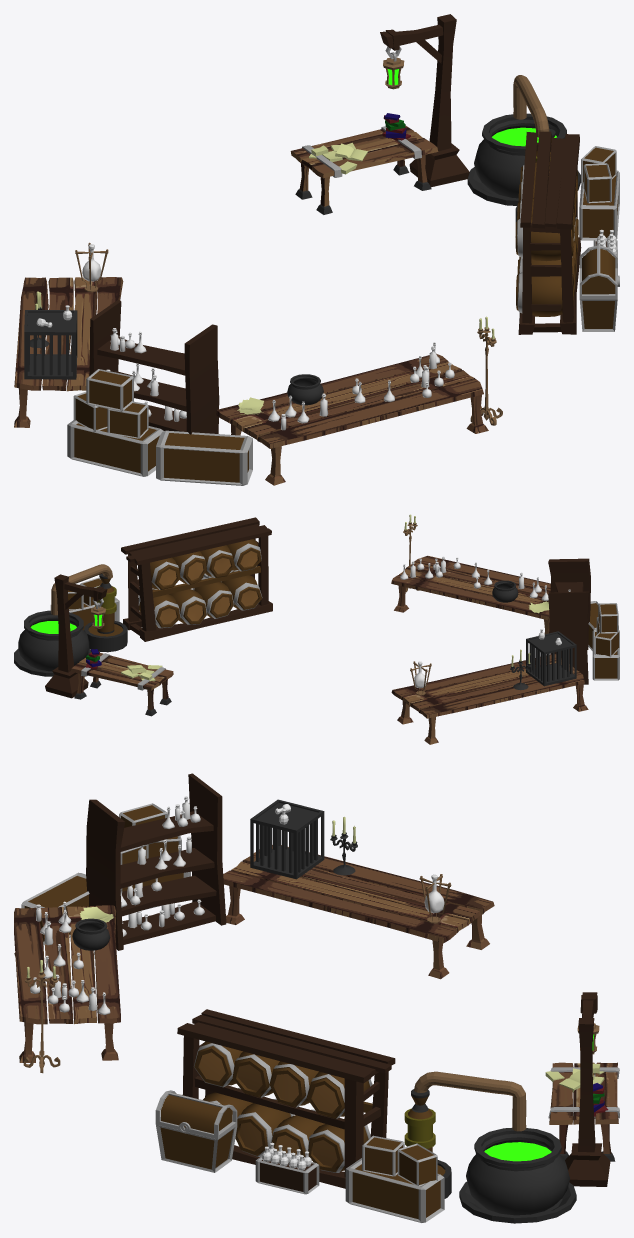
File: LabBObsD.fbx
3 views of the same model, one above another, from view 1: azimuth 30°, elevation 25°; view 2: azimuth 150°, elevation 25°; view 3: azimuth 270°, elevation 25° (orthographic). The views are drawn at different scales.
Parts seen in each view (by area): view 1: SM_PROP_barrel_shelf_dungeon_01.012, Mesa_Rectangular_a.002, Cube.1349, Cube.1420, Mesa_Rectangular_a.029, SM_PROP_lamp_dungeon_01.005, Cube.1421, Mesa_Rectangular_a.003, Cube.1423, Pot.041, Cube.1351, CofreInferior.018 (+5 smaller); view 2: SM_PROP_barrel_shelf_dungeon_01.012, Mesa_Rectangular_a.029, Mesa_Rectangular_a.002, Cube.1349, SM_PROP_lamp_dungeon_01.005, Pot.041, Mesa_Rectangular_a.003, Cube.1351, Cube.1420, Cylinder.1545, Cube.1423, BézierCurve.038 (+6 smaller); view 3: SM_PROP_barrel_shelf_dungeon_01.012, Cube.1349, Mesa_Rectangular_a.029, Mesa_Rectangular_a.002, Cube.1423, Pot.041, CofreInferior.018, Cube.1351, SM_PROP_lamp_dungeon_01.005, Mesa_Rectangular_a.003, BézierCurve.038, Cube.1420 (+10 smaller).
Part boxes in pixels (left/top/right/bottom): SM_PROP_barrel_shelf_dungeon_01.012: left=515, top=131, right=581, bottom=334; Mesa_Rectangular_a.002: left=216, top=354, right=488, bottom=485; Cube.1349: left=89, top=299, right=219, bottom=434; Cube.1420: left=67, top=369, right=163, bottom=476; Mesa_Rectangular_a.029: left=14, top=277, right=123, bottom=427; SM_PROP_lamp_dungeon_01.005: left=380, top=14, right=469, bottom=187; Cube.1421: left=156, top=430, right=252, bottom=485; Mesa_Rectangular_a.003: left=290, top=126, right=438, bottom=214; Cube.1423: left=579, top=146, right=619, bottom=240; Pot.041: left=474, top=113, right=566, bottom=198; Cube.1351: left=24, top=310, right=77, bottom=379; CofreInferior.018: left=579, top=245, right=619, bottom=331; SM_PROP_barrel_shelf_dungeon_01.012: left=121, top=517, right=272, bottom=641; Mesa_Rectangular_a.029: left=391, top=654, right=588, bottom=744; Mesa_Rectangular_a.002: left=391, top=555, right=550, bottom=634; Cube.1349: left=548, top=558, right=590, bottom=684; SM_PROP_lamp_dungeon_01.005: left=45, top=574, right=107, bottom=698; Pot.041: left=18, top=610, right=89, bottom=671; Mesa_Rectangular_a.003: left=71, top=653, right=173, bottom=716; Cube.1351: left=526, top=631, right=576, bottom=686; Cube.1420: left=592, top=603, right=619, bottom=680; Cylinder.1545: left=84, top=574, right=127, bottom=652; Cube.1423: left=50, top=577, right=119, bottom=630; BézierCurve.038: left=51, top=564, right=112, bottom=615; SM_PROP_barrel_shelf_dungeon_01.012: left=177, top=1009, right=395, bottom=1188; Cube.1349: left=86, top=773, right=226, bottom=950; Mesa_Rectangular_a.029: left=223, top=845, right=494, bottom=979; Mesa_Rectangular_a.002: left=14, top=905, right=120, bottom=1062; Cube.1423: left=345, top=1135, right=444, bottom=1222; Pot.041: left=466, top=1128, right=569, bottom=1215; CofreInferior.018: left=155, top=1090, right=237, bottom=1172; Cube.1351: left=250, top=799, right=324, bottom=879; SM_PROP_lamp_dungeon_01.005: left=565, top=992, right=610, bottom=1186; Mesa_Rectangular_a.003: left=548, top=1062, right=619, bottom=1161; BézierCurve.038: left=414, top=1071, right=526, bottom=1131; Cube.1420: left=119, top=803, right=190, bottom=910.
Bounding box in the file's own units: 11.7 × 2.56 × 8.76.
Materials: 15 (1 with a texture image).
